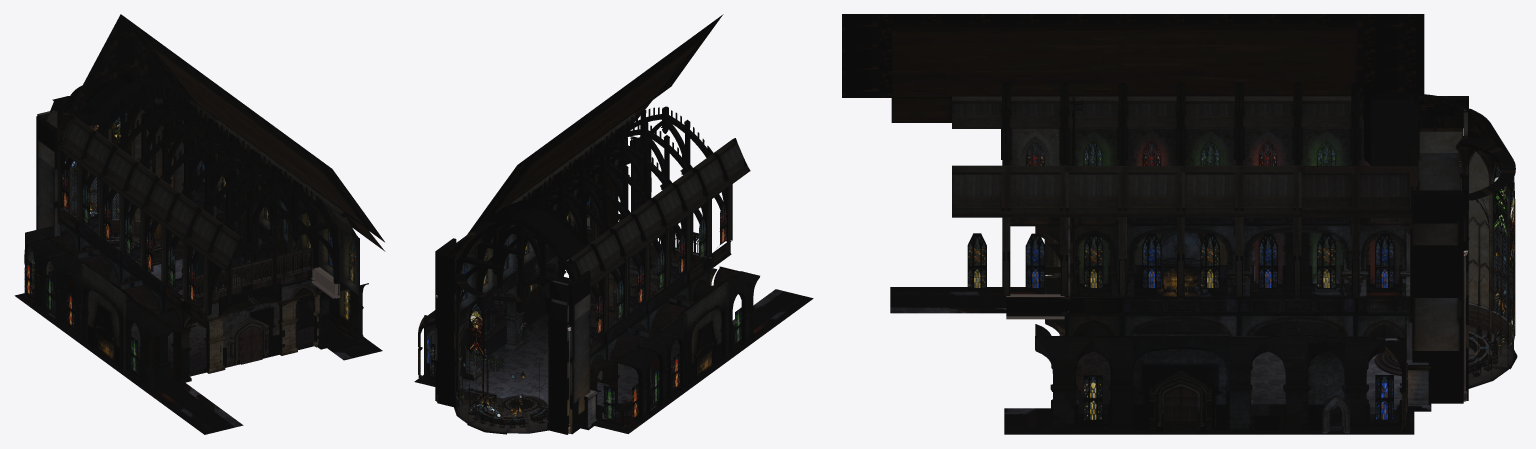
Rendered from night.glb.
The picture shows the model from 3 angles, left to right: view 1: azimuth 30°, elevation 25°; view 2: azimuth 150°, elevation 25°; view 3: azimuth 270°, elevation 25°; orthographic projection. The views are drawn at different scales.
Visible parts, largest first — view 1: SM_HW_GH_CeilingMain_Baked, Floor1_tranformBaked_withDiffuseUVs_mark (×2), VFX_SM_GH_LightShield_Bakedd, VFX_SM_GH_Rafters_B_Lite_Baked, VFX_SM_GH_Rafters_A_Lite6_Baked, VFX_SM_GH_Rafters_A_Lite5_Baked, SM_HW_GH_WallIntD_Baked, SM_HW_GH_FireplaceWall_Baked, SM_HW_GH_WallTimbers_2_Baked, SM_HW_GH_WallTimbers_5_Baked, SM_HW_GH_WallTimbers_3_Baked, SM_HW_GH_WallTimbers_4_Baked (+46 smaller); view 2: Floor1_tranformBaked_withDiffuseUVs_mark, VFX_SM_GH_Rafters_B_Lite_Baked, VFX_SM_GH_LightShield_Bakedd, SM_HW_GH_CeilingMain_Baked, SM_HW_GH_FireplaceWall_Baked, SM_HW_GH_WallTimbers_2_Baked, SM_HW_GH_WallTimbers_4_Baked, SM_HW_GH_WallTimbers_3_Baked, VFX_SM_GH_Rafters_A_Lite4_Baked, VFX_SM_GH_Rafters_A_Lite2_Baked, VFX_SM_GH_Rafters_A_Lite_Baked, VFX_SM_GH_Rafters_A_Lite3_Baked (+44 smaller); view 3: VFX_SM_GH_LightShield_Bakedd, SM_HW_GH_CeilingMain_Baked, Floor1_tranformBaked_withDiffuseUVs_mark, SM_HW_GH_WallTimbers_7_Baked, SM_HW_GH_WallTimbers_9_Baked, SM_HW_GH_WallTimbers_8_Baked, SM_HW_GH_WallTimbers_6_Baked, SM_HW_GH_WallDoor_2_Baked, VFX_SM_GH_Rafters_B_Lite_Baked, SM_HW_GH_WallTimbers_4_Baked, SM_HW_GH_WallTimbers_2_Baked, SM_HW_GH_WallTimbers_3_Baked (+68 smaller).
Boxes of the visible parts, <box> form: SM_HW_GH_CeilingMain_Baked: <box>50,14,384,242</box>; Floor1_tranformBaked_withDiffuseUVs_mark (×2): <box>14,252,382,434</box>; VFX_SM_GH_LightShield_Bakedd: <box>146,39,385,251</box>; VFX_SM_GH_Rafters_B_Lite_Baked: <box>57,72,212,224</box>; VFX_SM_GH_Rafters_A_Lite6_Baked: <box>207,176,339,315</box>; VFX_SM_GH_Rafters_A_Lite5_Baked: <box>186,161,318,299</box>; SM_HW_GH_WallIntD_Baked: <box>121,281,195,383</box>; SM_HW_GH_FireplaceWall_Baked: <box>81,264,126,372</box>; SM_HW_GH_WallTimbers_2_Baked: <box>182,207,242,315</box>; SM_HW_GH_WallTimbers_5_Baked: <box>57,113,115,222</box>; SM_HW_GH_WallTimbers_3_Baked: <box>140,176,200,284</box>; SM_HW_GH_WallTimbers_4_Baked: <box>98,144,158,253</box>; Floor1_tranformBaked_withDiffuseUVs_mark: <box>414,277,813,433</box>; VFX_SM_GH_Rafters_B_Lite_Baked: <box>456,197,605,332</box>; VFX_SM_GH_LightShield_Bakedd: <box>494,33,705,213</box>; SM_HW_GH_CeilingMain_Baked: <box>441,14,723,301</box>; SM_HW_GH_FireplaceWall_Baked: <box>684,282,728,387</box>; SM_HW_GH_WallTimbers_2_Baked: <box>692,138,750,257</box>; SM_HW_GH_WallTimbers_4_Baked: <box>609,198,667,317</box>; SM_HW_GH_WallTimbers_3_Baked: <box>650,168,708,287</box>; VFX_SM_GH_Rafters_A_Lite4_Baked: <box>497,182,627,317</box>; VFX_SM_GH_Rafters_A_Lite2_Baked: <box>538,152,667,287</box>; VFX_SM_GH_Rafters_A_Lite_Baked: <box>565,136,688,272</box>; VFX_SM_GH_Rafters_A_Lite3_Baked: <box>518,167,648,302</box>; VFX_SM_GH_LightShield_Bakedd: <box>891,23,1357,122</box>; SM_HW_GH_CeilingMain_Baked: <box>842,14,1515,209</box>; Floor1_tranformBaked_withDiffuseUVs_mark: <box>890,287,1414,434</box>; SM_HW_GH_WallTimbers_7_Baked: <box>1185,165,1301,296</box>; SM_HW_GH_WallTimbers_9_Baked: <box>952,165,1068,296</box>; SM_HW_GH_WallTimbers_8_Baked: <box>1068,166,1184,296</box>; SM_HW_GH_WallTimbers_6_Baked: <box>1301,166,1417,296</box>; SM_HW_GH_WallDoor_2_Baked: <box>1132,334,1229,430</box>; VFX_SM_GH_Rafters_B_Lite_Baked: <box>1350,80,1419,322</box>; SM_HW_GH_WallTimbers_4_Baked: <box>1184,96,1293,165</box>; SM_HW_GH_WallTimbers_2_Baked: <box>952,96,1060,165</box>; SM_HW_GH_WallTimbers_3_Baked: <box>1068,96,1176,165</box>.
Size of the model in its own units: 36.88 by 40.33 by 71.58.
215 materials, 214 textured.
